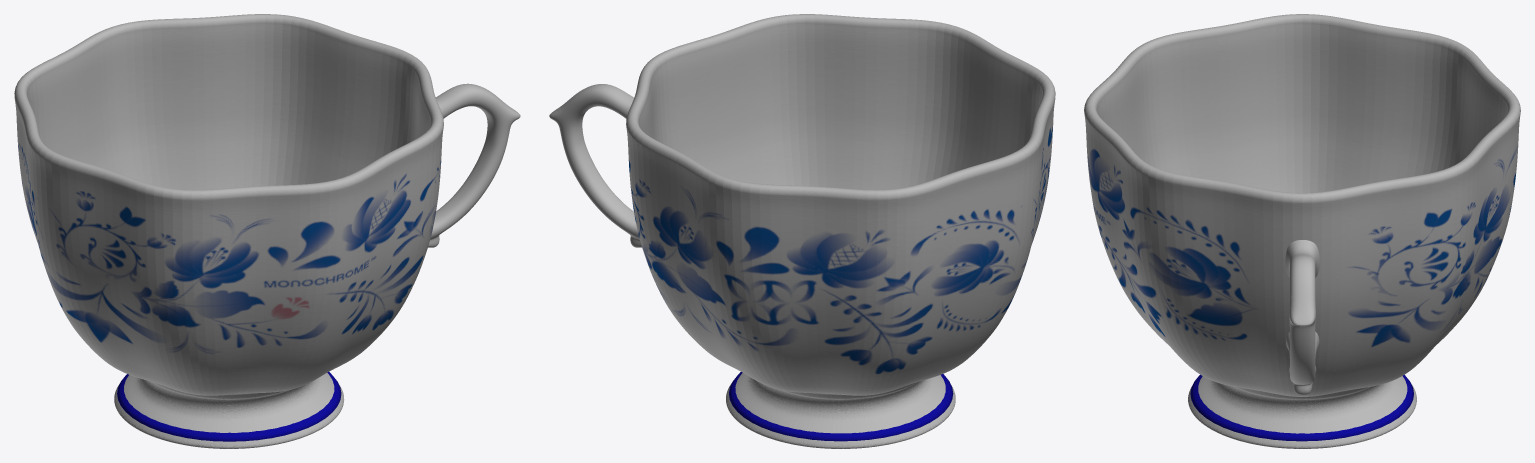
3 views of the same model, side by side, from view 1: azimuth 30°, elevation 25°; view 2: azimuth 150°, elevation 25°; view 3: azimuth 270°, elevation 25° (orthographic).
Parts seen in each view (by area): view 1: Cup_v1_04.001; view 2: Cup_v1_04.001; view 3: Cup_v1_04.001.
Boxes of the visible parts, x1,y1,x2,y2 form: Cup_v1_04.001: [14, 14, 520, 448]; Cup_v1_04.001: [549, 14, 1055, 448]; Cup_v1_04.001: [1084, 14, 1520, 448].
Bounding box in the file's own units: 4.48 × 2.67 × 3.55.
3 materials, 2 textured.
